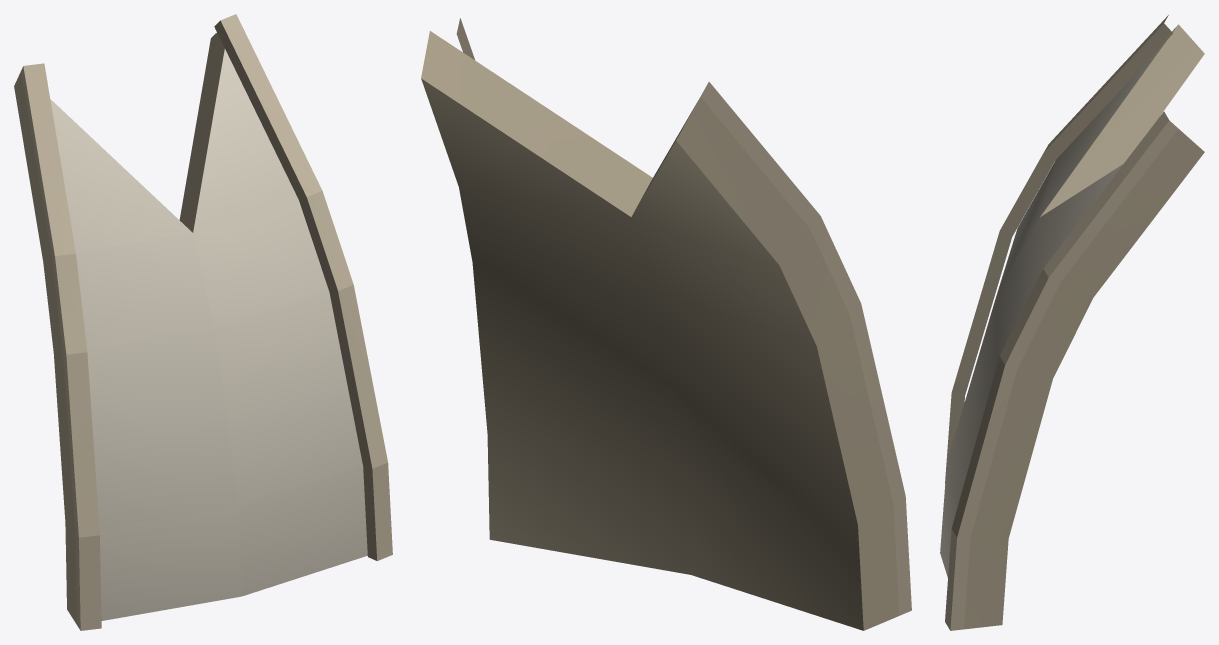
Rendered from dome.panel_12_broken.plaster.glb.
3 views of the same model, side by side, from view 1: azimuth 30°, elevation 25°; view 2: azimuth 150°, elevation 25°; view 3: azimuth 270°, elevation 25° (orthographic). The views are drawn at different scales.
Visible parts, largest first — view 1: dome_panel_12_broken_plaster; view 2: dome_panel_12_broken_plaster; view 3: dome_panel_12_broken_plaster.
Part boxes in pixels (x1,y1,x2,y2): dome_panel_12_broken_plaster: (14, 14, 392, 630); dome_panel_12_broken_plaster: (421, 18, 911, 630); dome_panel_12_broken_plaster: (940, 15, 1204, 630).
Size of what is drawn, in the model's own units: 1.85 by 2.68 by 1.33.
